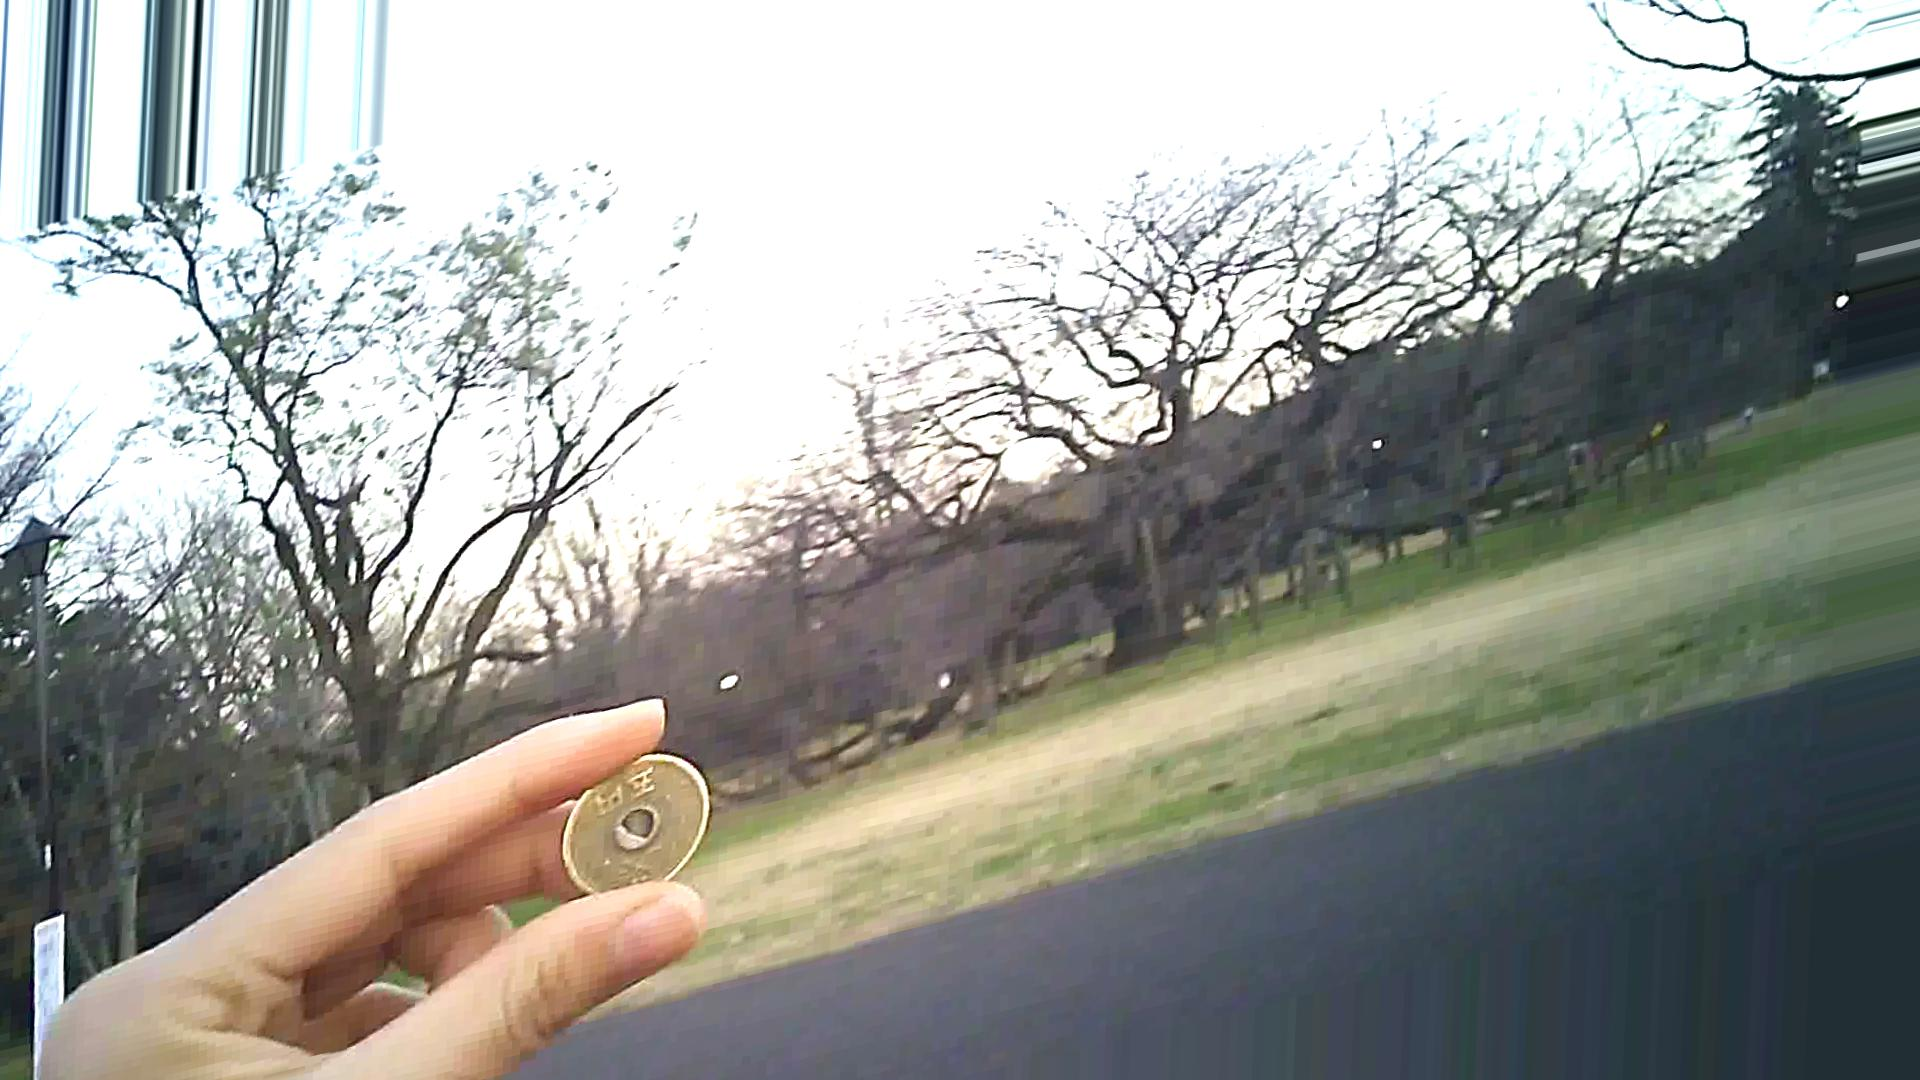5 Yen: (547, 753, 712, 920)
